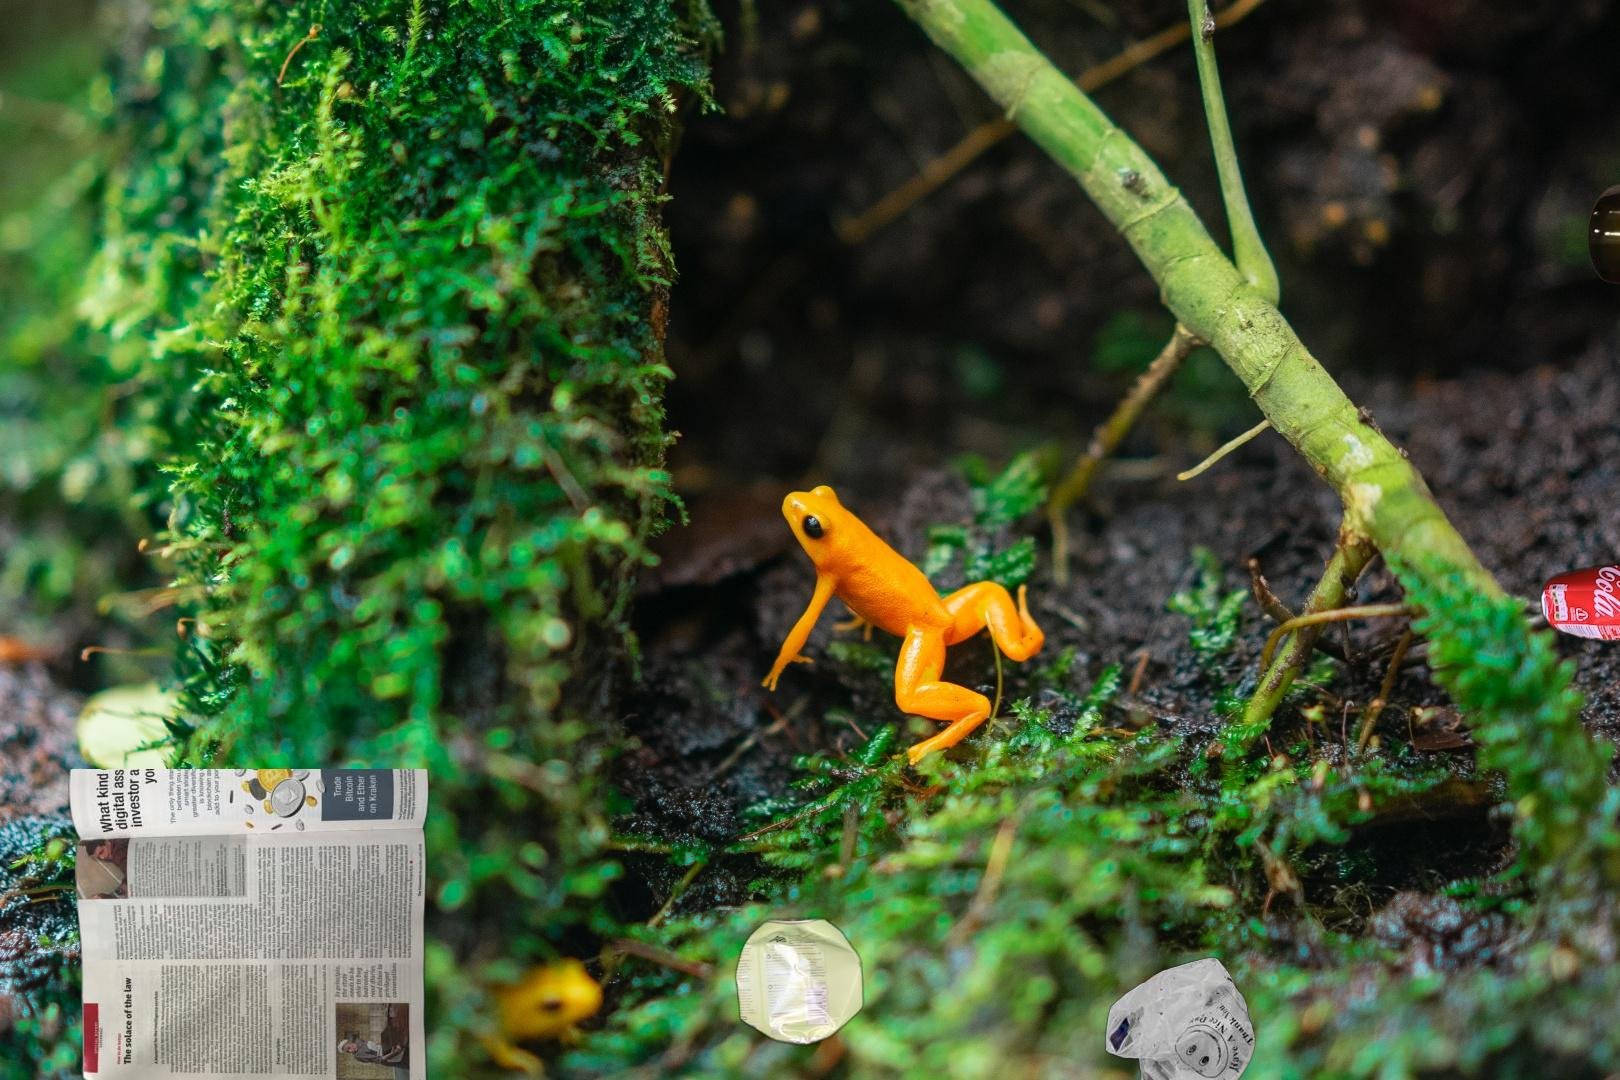glass: (1584, 33, 1620, 293)
metal-cans: (1536, 557, 1620, 1038), (730, 912, 868, 1052)
paper: (65, 769, 434, 1080)
plastic-bag: (1102, 956, 1258, 1080)
